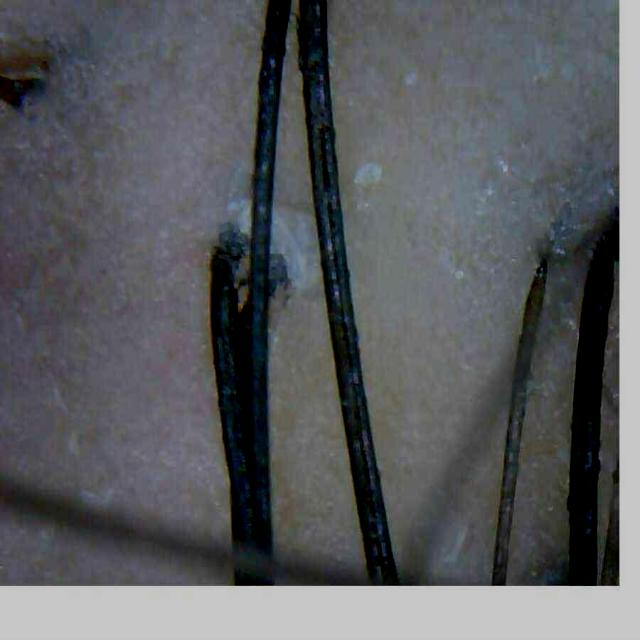d: (271, 206, 321, 293), (228, 199, 251, 235), (354, 163, 382, 186)
